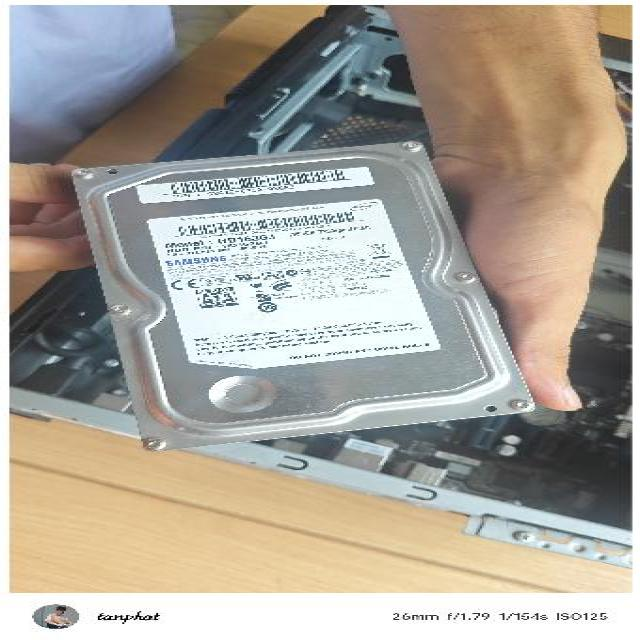DISK: (69, 138, 541, 454)
